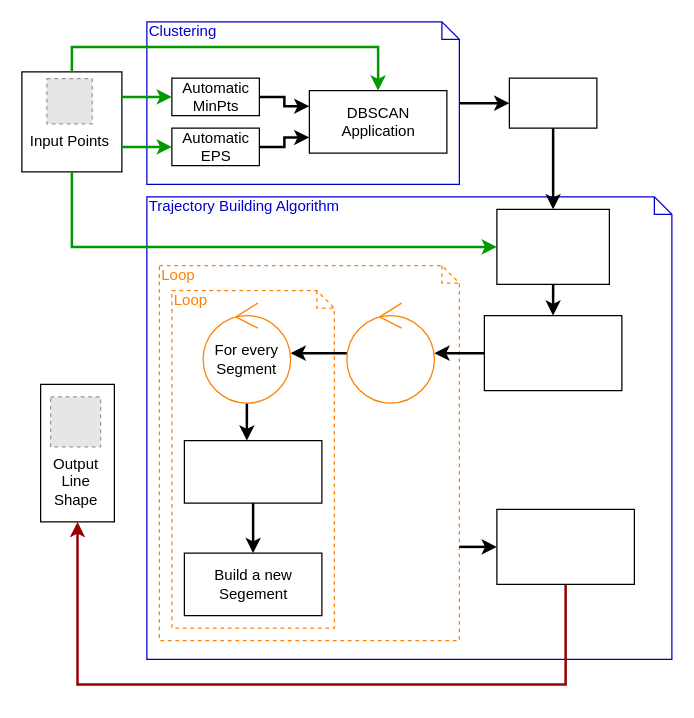
This 694x718 diagram has some shape labels left out. Grey dashed boxes stand in for pictures. The shapes that lost their labels are listed below. From the top down, each one's centre as x and y in pixels, then its label:
At [552,102]: "Voronoi Polygons".
At [552,246]: "Sort Points to Cluster Center by Voronois".
At [390,352]: "For every Trajectory".
At [552,352]: "Build Trajectories per User from Points".
At [252,471]: "Find intersecting Voronois".
At [565,546]: "Summarize overlapping Trajectories".
